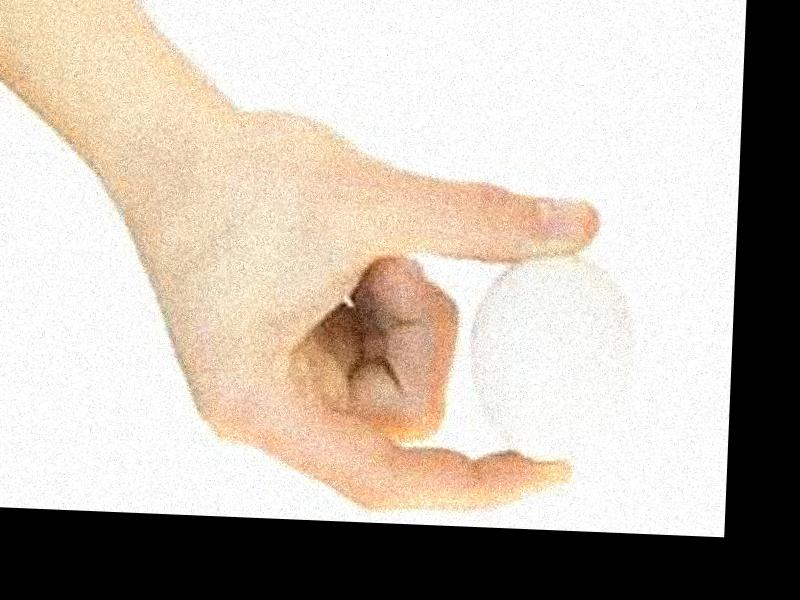Eggs: (465, 248, 633, 463)
